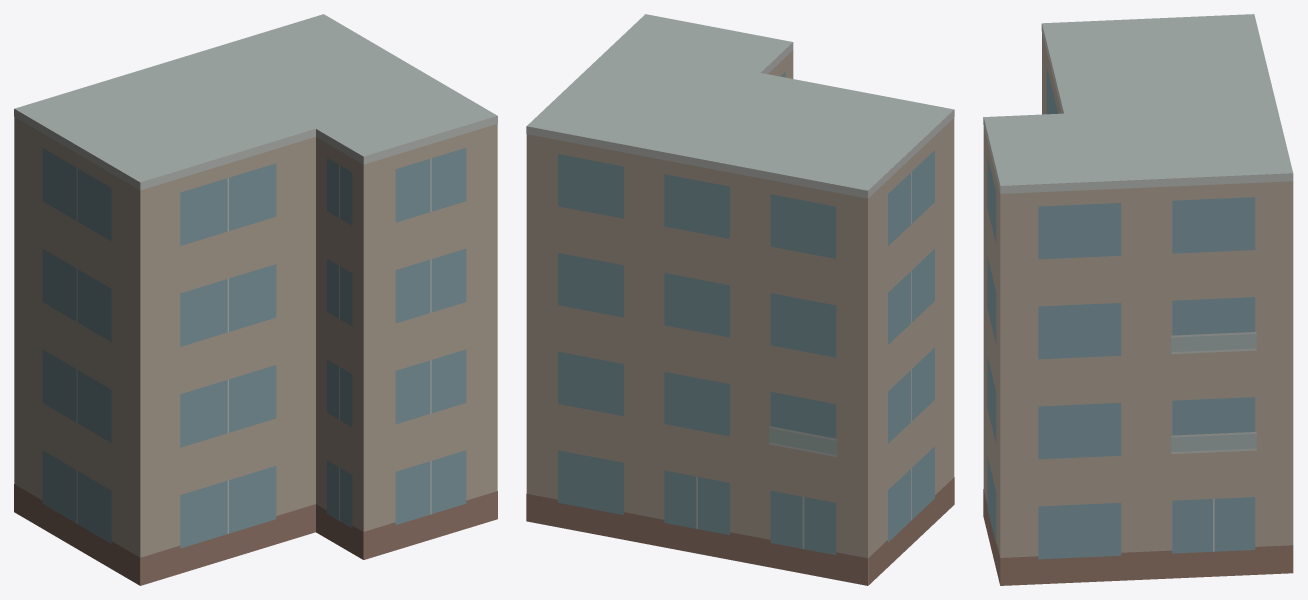
Rendered from survey-upis-32777992.glb.
3 views of the same model, side by side, from view 1: azimuth 30°, elevation 25°; view 2: azimuth 150°, elevation 25°; view 3: azimuth 270°, elevation 25° (orthographic). The views are drawn at different scales.
Visible parts, largest first — view 1: survey-upis-32777992.tmp; view 2: survey-upis-32777992.tmp; view 3: survey-upis-32777992.tmp.
Boxes of the visible parts, x1=… form: survey-upis-32777992.tmp: x1=14, y1=14, x2=497, y2=585; survey-upis-32777992.tmp: x1=526, y1=14, x2=954, y2=585; survey-upis-32777992.tmp: x1=983, y1=14, x2=1293, y2=585.
Size of the model in its own units: 11.32 by 12.27 by 8.62.
